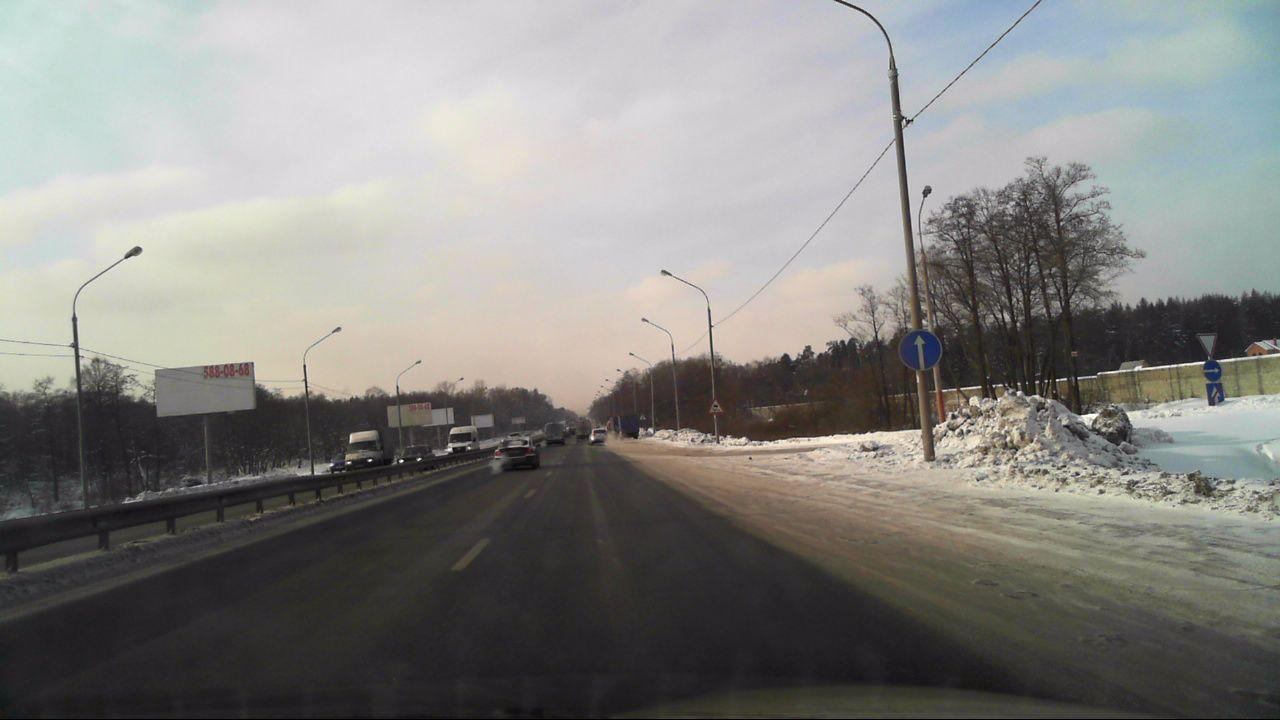1_15: (708, 399, 724, 415)
2_4: (1196, 332, 1219, 357)
4_1_1: (899, 329, 942, 370), (1201, 359, 1224, 382)
5_6: (1205, 383, 1226, 405)
